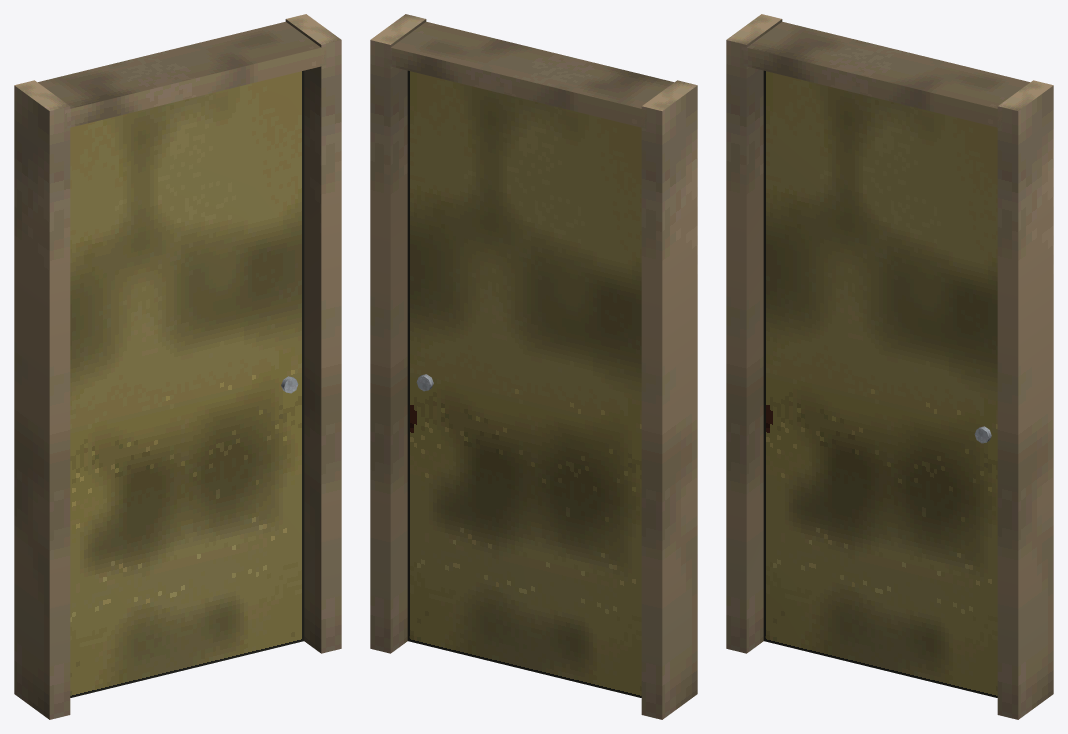
File: door_nowhere.glb
The picture shows the model from 3 angles, left to right: view 1: azimuth 30°, elevation 25°; view 2: azimuth 150°, elevation 25°; view 3: azimuth 330°, elevation 25°; orthographic projection.
Visible parts, largest first — view 1: door_nowhere_leaf, door_nowhere, door_nowhere_casing_r, door_nowhere_casing_top; view 2: door_nowhere_leaf, door_nowhere, door_nowhere_casing_r, door_nowhere_casing_top; view 3: door_nowhere_leaf, door_nowhere_casing_r, door_nowhere, door_nowhere_casing_top.
Boxes of the visible parts, <box> form: door_nowhere_leaf: <box>70,70,304,697</box>; door_nowhere: <box>14,80,70,719</box>; door_nowhere_casing_r: <box>285,14,341,653</box>; door_nowhere_casing_top: <box>38,21,326,128</box>; door_nowhere_leaf: <box>407,70,641,697</box>; door_nowhere: <box>641,80,697,719</box>; door_nowhere_casing_r: <box>370,14,426,653</box>; door_nowhere_casing_top: <box>385,21,673,128</box>; door_nowhere_leaf: <box>763,70,997,697</box>; door_nowhere_casing_r: <box>997,80,1053,719</box>; door_nowhere: <box>726,14,782,653</box>; door_nowhere_casing_top: <box>741,21,1029,128</box>.
Size of the model in its own units: 1.14 by 2.27 by 0.24.
